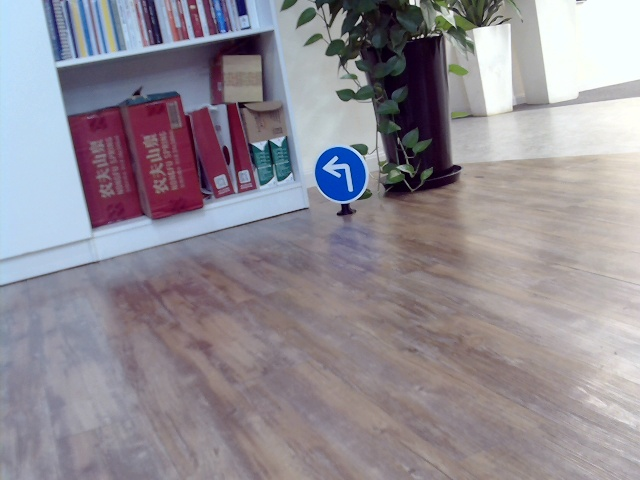turn_left: (319, 153, 355, 191)
